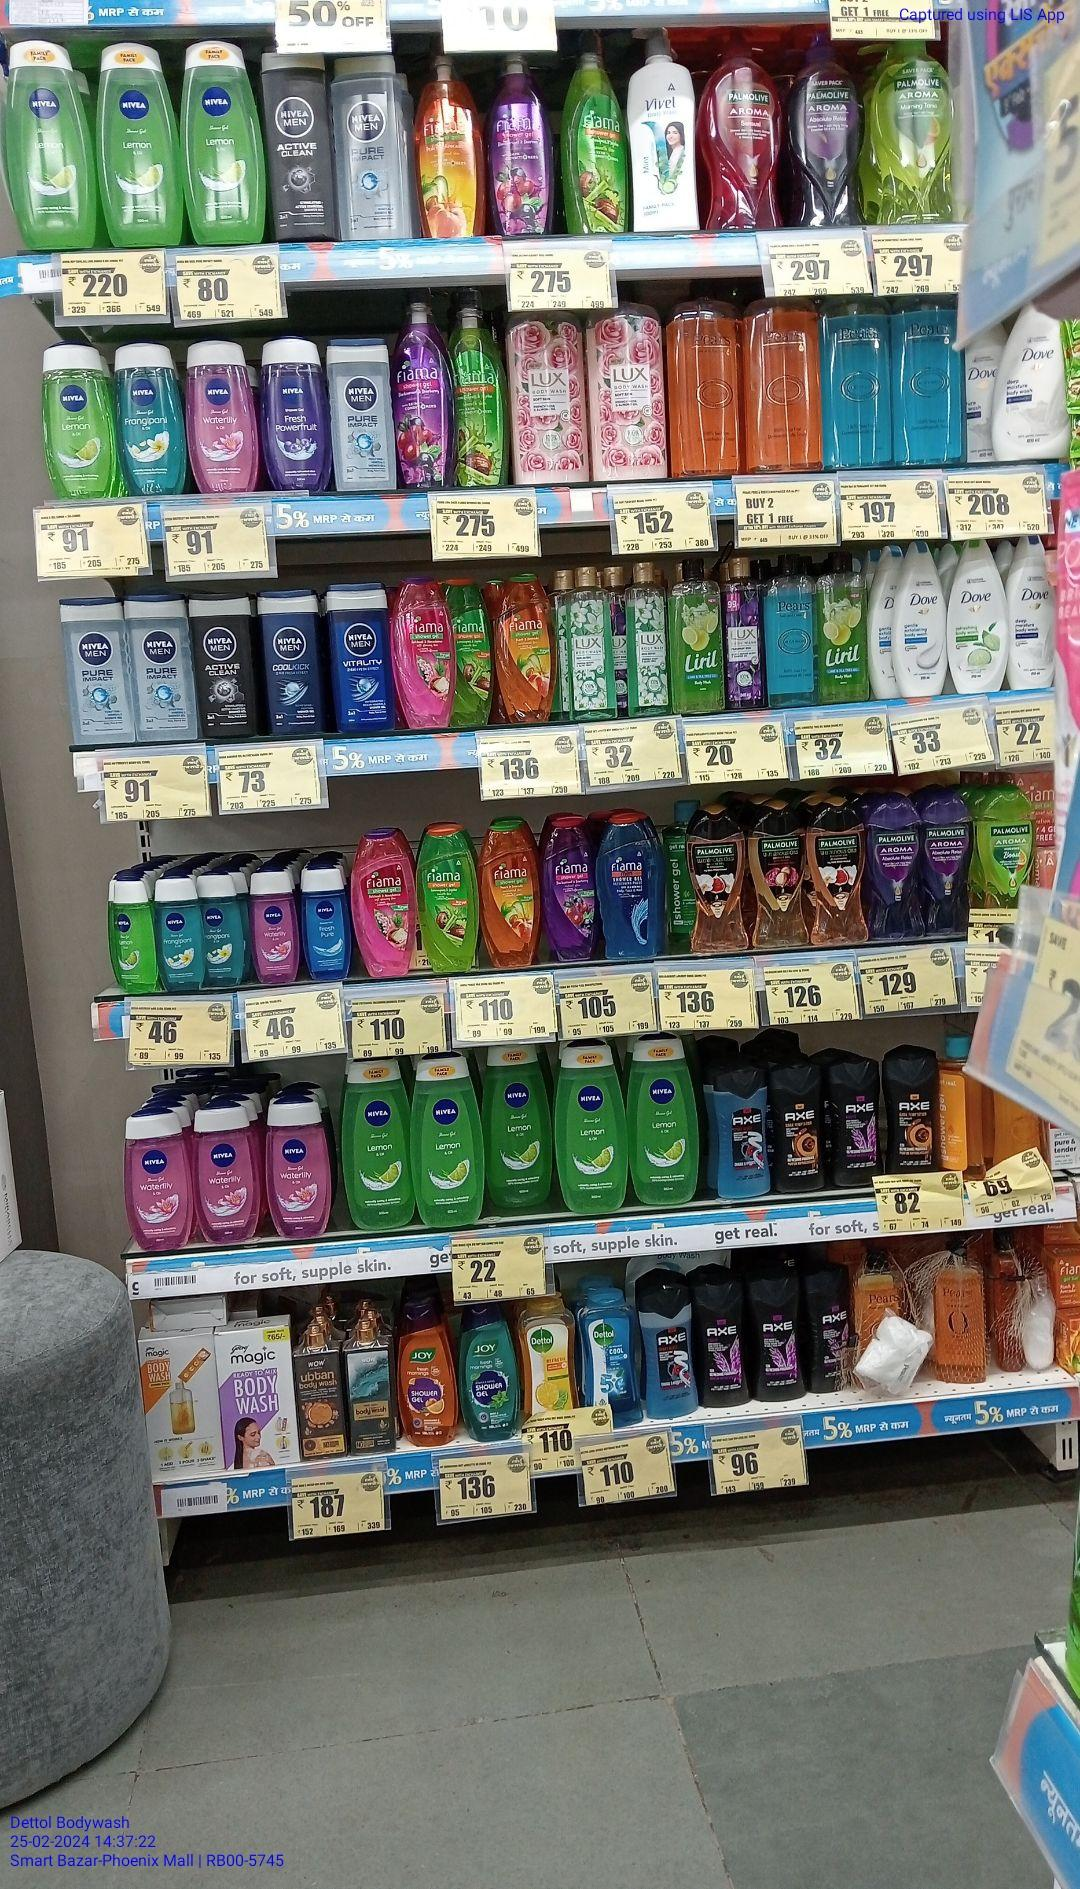Dettol_Bodywash_Cool: (582, 1287, 645, 1426)
Dettol_Bodywash_Refresh: (522, 1296, 578, 1426)
Dove_Deep_Moisture_Body_Wash_250ML: (1009, 533, 1055, 686)
Dove_Gentle_Exfoliating_Body_Wash_250ML: (896, 544, 948, 695)
Dove_Refreshing_Body_Wash_250ML: (950, 540, 1007, 695)
Fiama_Shower_Gel_Lemongrass_and_Jojoba_250ML: (417, 826, 472, 972), (450, 579, 489, 728)
Fiama_Shower_Gel_Patchouli_and_Macadamia_250ML: (352, 829, 415, 974), (396, 576, 449, 730)
Fiama_Shower_Gel_Peach_and_Avocado_250ML: (498, 572, 554, 721), (478, 824, 532, 967)
Joy_Shower_Gel_Mandarin_and_Lemongrass_250ML: (393, 1297, 456, 1449)
Joy_Shower_Gel_Mint_and_Eucalyptus_250ML: (465, 1301, 522, 1440)
Liril_Cooling_Mint_Body_Wash_250ML: (768, 554, 816, 706)
Liril_Lime_and_Tea_Tree_Oil_Body_Wash_250ML: (672, 554, 722, 716), (820, 549, 866, 701)
Lux_Black_Orchid_Scent_and_Juniper_Oil_Body_Wash_245ML: (727, 558, 765, 707)
Lux_Body_Wash_Skin_Detox_Freesia_Scent_and_Alove_Vera_245ML: (571, 566, 613, 719), (628, 562, 670, 715)
Nivea_Shower_Gel_Frangipani_and_Oil_250ML: (119, 343, 178, 497)
Nivea_Shower_Gel_Fresh_Powerfruit_250ML: (265, 333, 322, 494)
Nivea_Shower_Gel_Lemon_and_Oil_250ML: (8, 36, 92, 250), (182, 39, 264, 244), (100, 43, 171, 248), (417, 1053, 487, 1226), (43, 344, 113, 505), (559, 1048, 628, 1212), (344, 1060, 409, 1226), (635, 1033, 696, 1203), (492, 1046, 552, 1205)
Nivea_Shower_Gel_Waterlily_and_Oil_250ML: (187, 339, 256, 494), (193, 1105, 257, 1247), (125, 1114, 191, 1249), (269, 1095, 326, 1240)
Palmolive_Aroma_Morning_Tonic_Shower_Gel_250ML: (980, 786, 1040, 941)
Palmolive_Aroma_Relax_250ML: (924, 794, 974, 938), (874, 799, 920, 939)
Palmolive_Luminous_Oils_Invigorating_Macadamia_Oil_With_Peony_250ML: (752, 807, 806, 946)
Palmolive_Luminous_Oils_With_White_Orchid_Shower_Gel_250ML: (689, 812, 752, 955), (814, 800, 868, 944)
